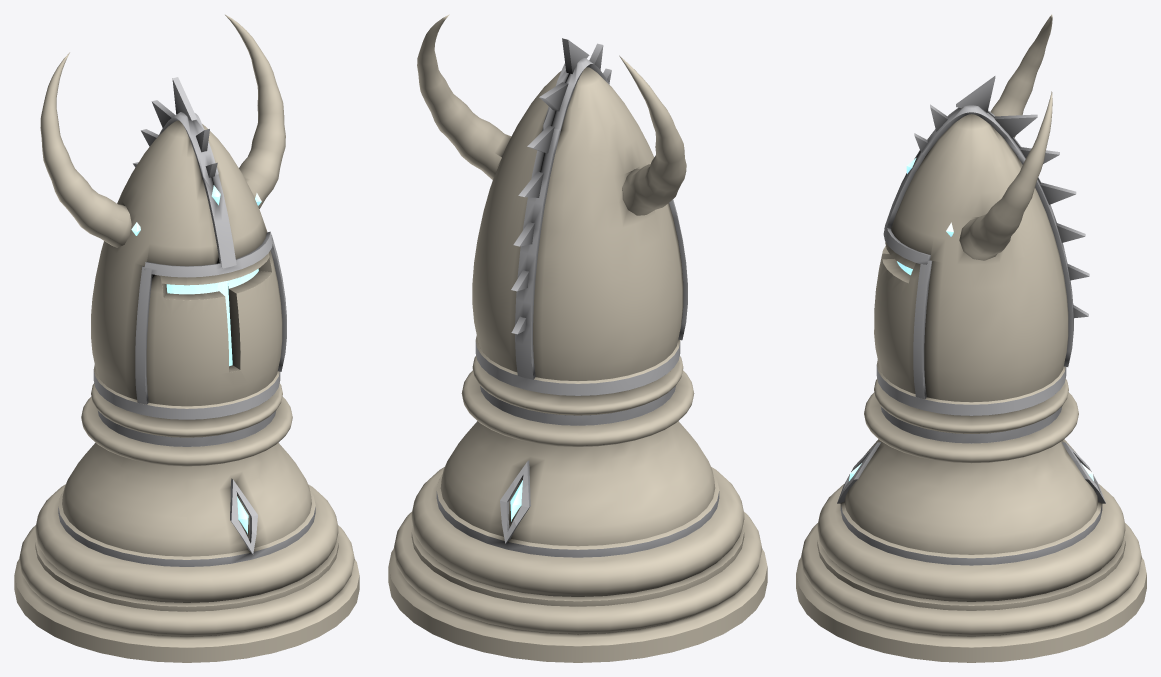
Rendered from dragon_horse.glb.
3 renders of one model, left to right at view 1: azimuth 30°, elevation 25°; view 2: azimuth 150°, elevation 25°; view 3: azimuth 270°, elevation 25°, orthographic. The views are drawn at different scales.
Visible parts, largest first — view 1: dragon_horse; view 2: dragon_horse; view 3: dragon_horse.
Boxes of the visible parts, bbox=[...] form: dragon_horse: bbox=[14, 14, 359, 662]; dragon_horse: bbox=[388, 14, 767, 662]; dragon_horse: bbox=[796, 14, 1146, 662].
Bounding box in the file's own units: 0.74 × 1.25 × 0.74.
